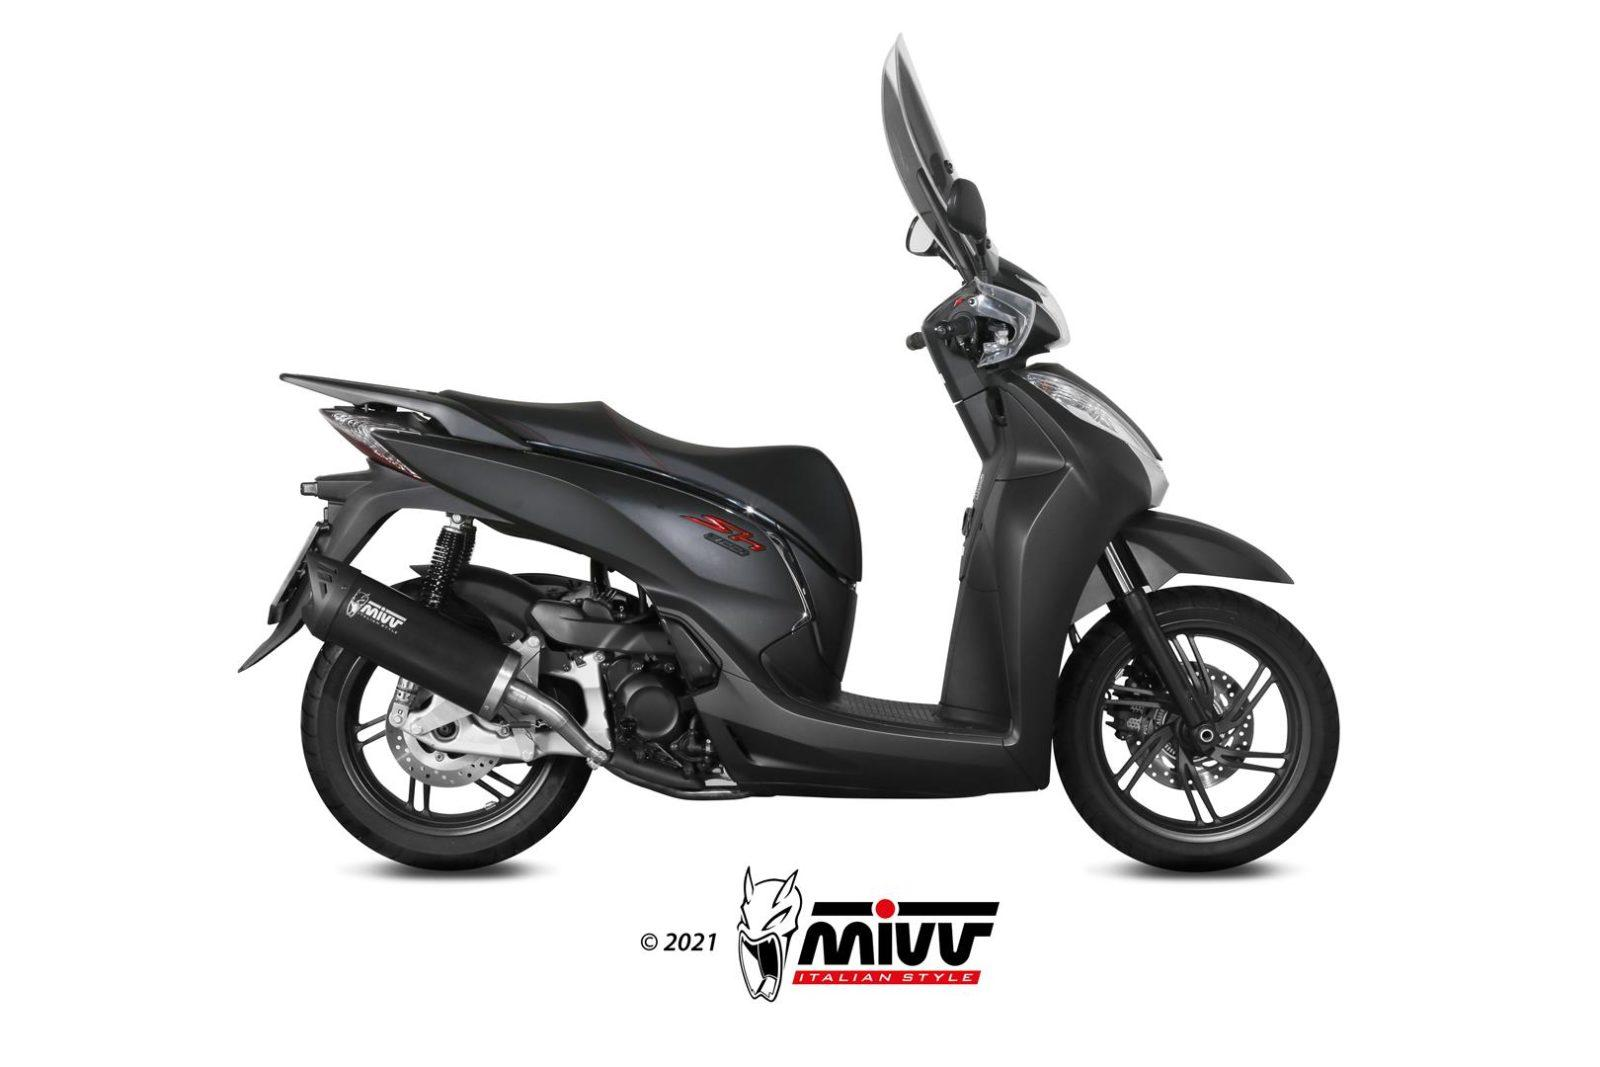engine-chasis: (525, 599, 1038, 798), (417, 512, 477, 609), (388, 675, 420, 728)
exhaust: (302, 549, 755, 800)
frontside: (760, 256, 1295, 790), (880, 31, 982, 282)
handlebar: (905, 177, 1036, 404), (905, 216, 958, 272)
motorbike: (240, 38, 1340, 871)
rearside: (237, 373, 858, 753), (399, 693, 586, 762), (410, 564, 429, 578)
seat: (437, 389, 863, 582)
tank: (939, 428, 1012, 718)
watermark: (606, 860, 1014, 1018)
wheel: (1054, 585, 1340, 874), (300, 641, 592, 872), (1068, 623, 1081, 650)
